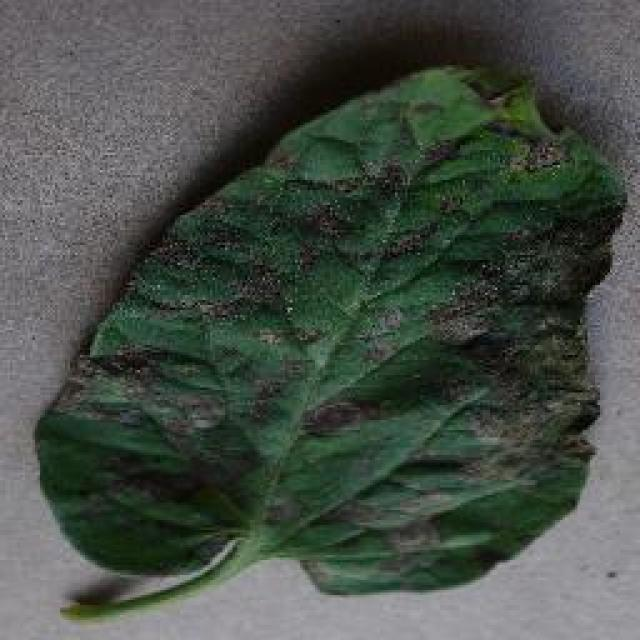Tomato Early blight leaf: (36, 64, 628, 598)
